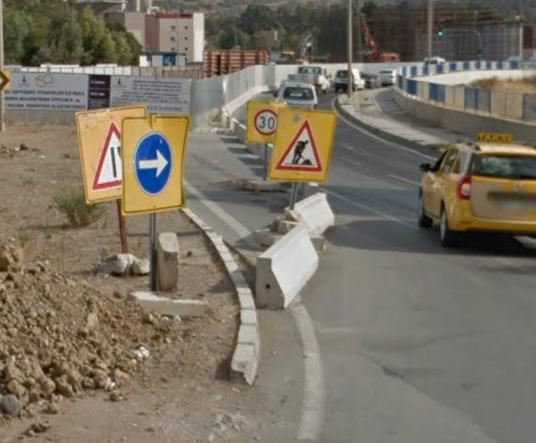turnright: (130, 129, 179, 199)
